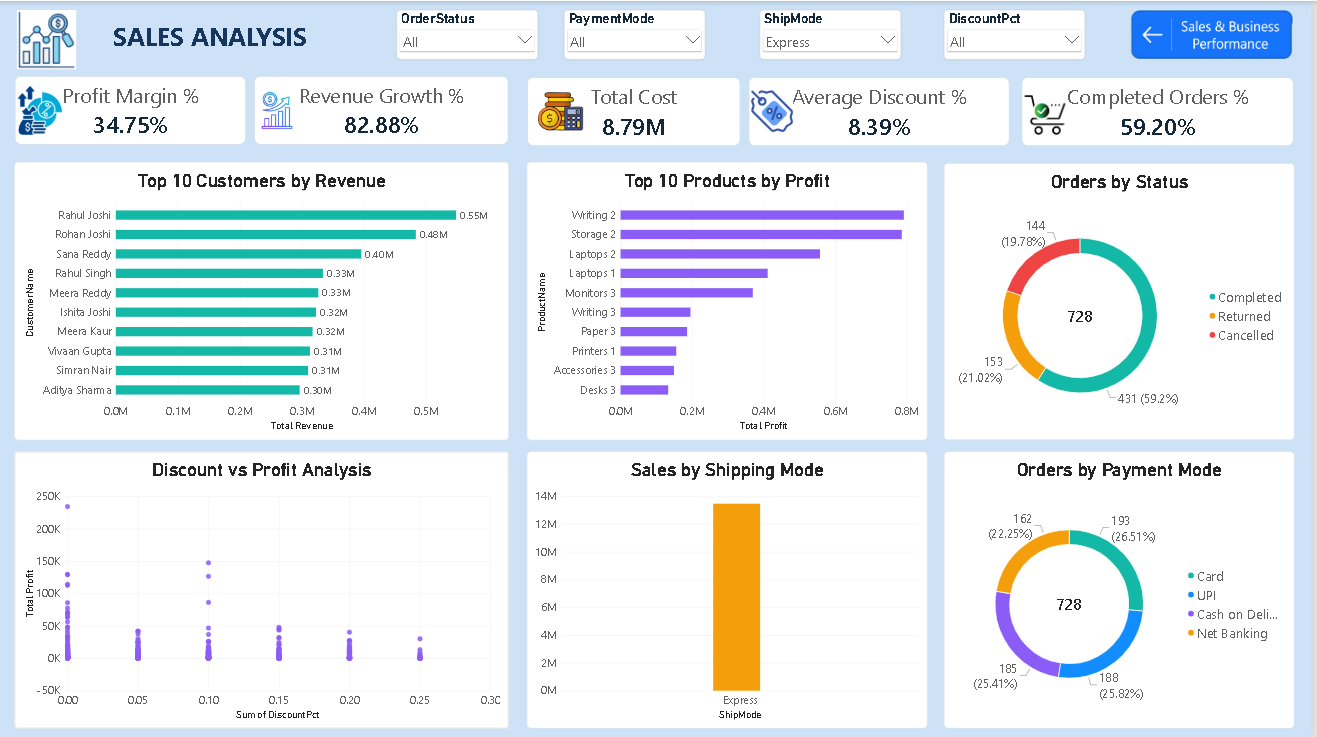

The dashboard page shown, as its layout file describes it:
{"tool":"powerbi","page":{"name":"Sales Analysis","canvas":[2560,1440],"ordinal":1},"visuals":[{"type":"textbox","box":[211,35.2,417,95.5],"z":0},{"type":"cardVisual","fields":{"Data":["_Measures.Profit Margin %"]},"box":[30.1,145.7,452.2,135.7],"z":1000},{"type":"cardVisual","fields":{"Data":["_Measures.Revenue Growth %"]},"box":[497.4,145.7,497.4,135.7],"z":2000},{"type":"cardVisual","fields":{"Data":["_Measures.Total Cost"]},"box":[1030.1,148.2,417,135.7],"z":3000},{"type":"cardVisual","fields":{"Data":["_Measures.Average Discount %"]},"box":[1462.2,148.2,510,135.7],"z":4000},{"type":"cardVisual","fields":{"Data":["_Measures.Completed Orders %"]},"box":[1994.8,148.2,532.6,135.7],"z":5000},{"type":"clusteredBarChart","title":"Top 10 Customers by Revenue","fields":{"Category":["tbl_Customers.CustomerName"],"Y":["_Measures.Total Revenue"]},"box":[30.1,314,964.7,542.7],"z":6000},{"type":"clusteredBarChart","title":"Top 10 Products by Profit","fields":{"Category":["tbl_Products.ProductName"],"Y":["_Measures.Total Profit"]},"box":[1030.1,314,781.3,542.7],"z":7000},{"type":"scatterChart","title":"Discount vs Profit Analysis","fields":{"Category":["tbl_Orders.OrderID"],"X":["Sum(tbl_Orders.DiscountPct)"],"Y":["_Measures.Total Profit"]},"box":[30.1,879.3,964.7,540.2],"z":8000},{"type":"donutChart","title":"Orders by Status","fields":{"Category":["tbl_Orders.OrderStatus"],"Y":["CountNonNull(tbl_Orders.OrderID)"]},"box":[1844.1,316.6,683.4,540.2],"z":9000},{"type":"clusteredColumnChart","title":"Sales by Shipping Mode","fields":{"Category":["tbl_Orders.ShipMode"],"Y":["_Measures.Total Revenue"]},"box":[1030.1,879.3,781.3,540.2],"z":10000},{"type":"donutChart","title":"Orders by Payment Mode","fields":{"Category":["tbl_Orders.PaymentMode"],"Y":["Count(tbl_Orders.OrderID)"]},"box":[1844.1,879.3,683.4,540.2],"z":11000},{"type":"slicer","fields":{"Values":["tbl_Orders.OrderStatus"]},"box":[776.3,17.6,274.8,95.9],"z":12000},{"type":"slicer","fields":{"Values":["tbl_Orders.ShipMode"]},"box":[1484.8,17.6,274.8,95.9],"z":14000},{"type":"slicer","fields":{"Values":["tbl_Orders.DiscountPct"]},"box":[1844.1,17.6,274.8,95.9],"z":15000},{"type":"image","box":[0,17.6,185.9,115.6],"z":16000},{"type":"image","box":[2205.8,17.6,321.6,95.5],"z":17000},{"type":"image","box":[30.1,165.8,100.5,95.5],"z":18000},{"type":"image","box":[512.5,160.8,60.3,105.5],"z":19000},{"type":"image","box":[1050.2,165.8,90.4,98],"z":20000},{"type":"image","box":[1462.2,173.4,93,82.9],"z":21000},{"type":"image","box":[1994.8,183.4,93,77.9],"z":22000},{"type":"slicer","fields":{"Values":["tbl_Orders.PaymentMode"]},"box":[1102.9,17.6,274.8,95.9],"z":22001}]}

Visuals, with their boxes in screenshot pixels (x1, y1, x2, y2), scaled from the page's 2560x1440 canvas onto the 1317x737 screenshot:
textbox: BBox(109, 18, 323, 67)
cardVisual - _Measures.Profit Margin %: BBox(15, 75, 248, 144)
cardVisual - _Measures.Revenue Growth %: BBox(256, 75, 512, 144)
cardVisual - _Measures.Total Cost: BBox(530, 76, 744, 145)
cardVisual - _Measures.Average Discount %: BBox(752, 76, 1015, 145)
cardVisual - _Measures.Completed Orders %: BBox(1026, 76, 1300, 145)
"Top 10 Customers by Revenue" clusteredBarChart: BBox(15, 161, 512, 438)
"Top 10 Products by Profit" clusteredBarChart: BBox(530, 161, 932, 438)
"Discount vs Profit Analysis" scatterChart: BBox(15, 450, 512, 727)
"Orders by Status" donutChart: BBox(949, 162, 1300, 439)
"Sales by Shipping Mode" clusteredColumnChart: BBox(530, 450, 932, 727)
"Orders by Payment Mode" donutChart: BBox(949, 450, 1300, 727)
slicer - tbl_Orders.OrderStatus: BBox(399, 9, 541, 58)
slicer - tbl_Orders.ShipMode: BBox(764, 9, 905, 58)
slicer - tbl_Orders.DiscountPct: BBox(949, 9, 1090, 58)
image: BBox(0, 9, 96, 68)
image: BBox(1135, 9, 1300, 58)
image: BBox(15, 85, 67, 134)
image: BBox(264, 82, 295, 136)
image: BBox(540, 85, 587, 135)
image: BBox(752, 89, 800, 131)
image: BBox(1026, 94, 1074, 134)
slicer - tbl_Orders.PaymentMode: BBox(567, 9, 709, 58)
